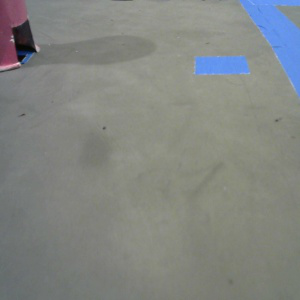middle: (1, 1, 40, 72)
